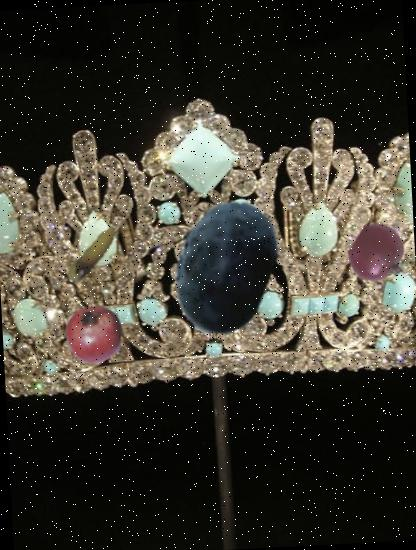Banana: (58, 219, 131, 292)
Blueberry: (152, 194, 296, 338)
Pomegranate: (64, 303, 126, 366)
Redcurrant: (348, 223, 410, 284)
